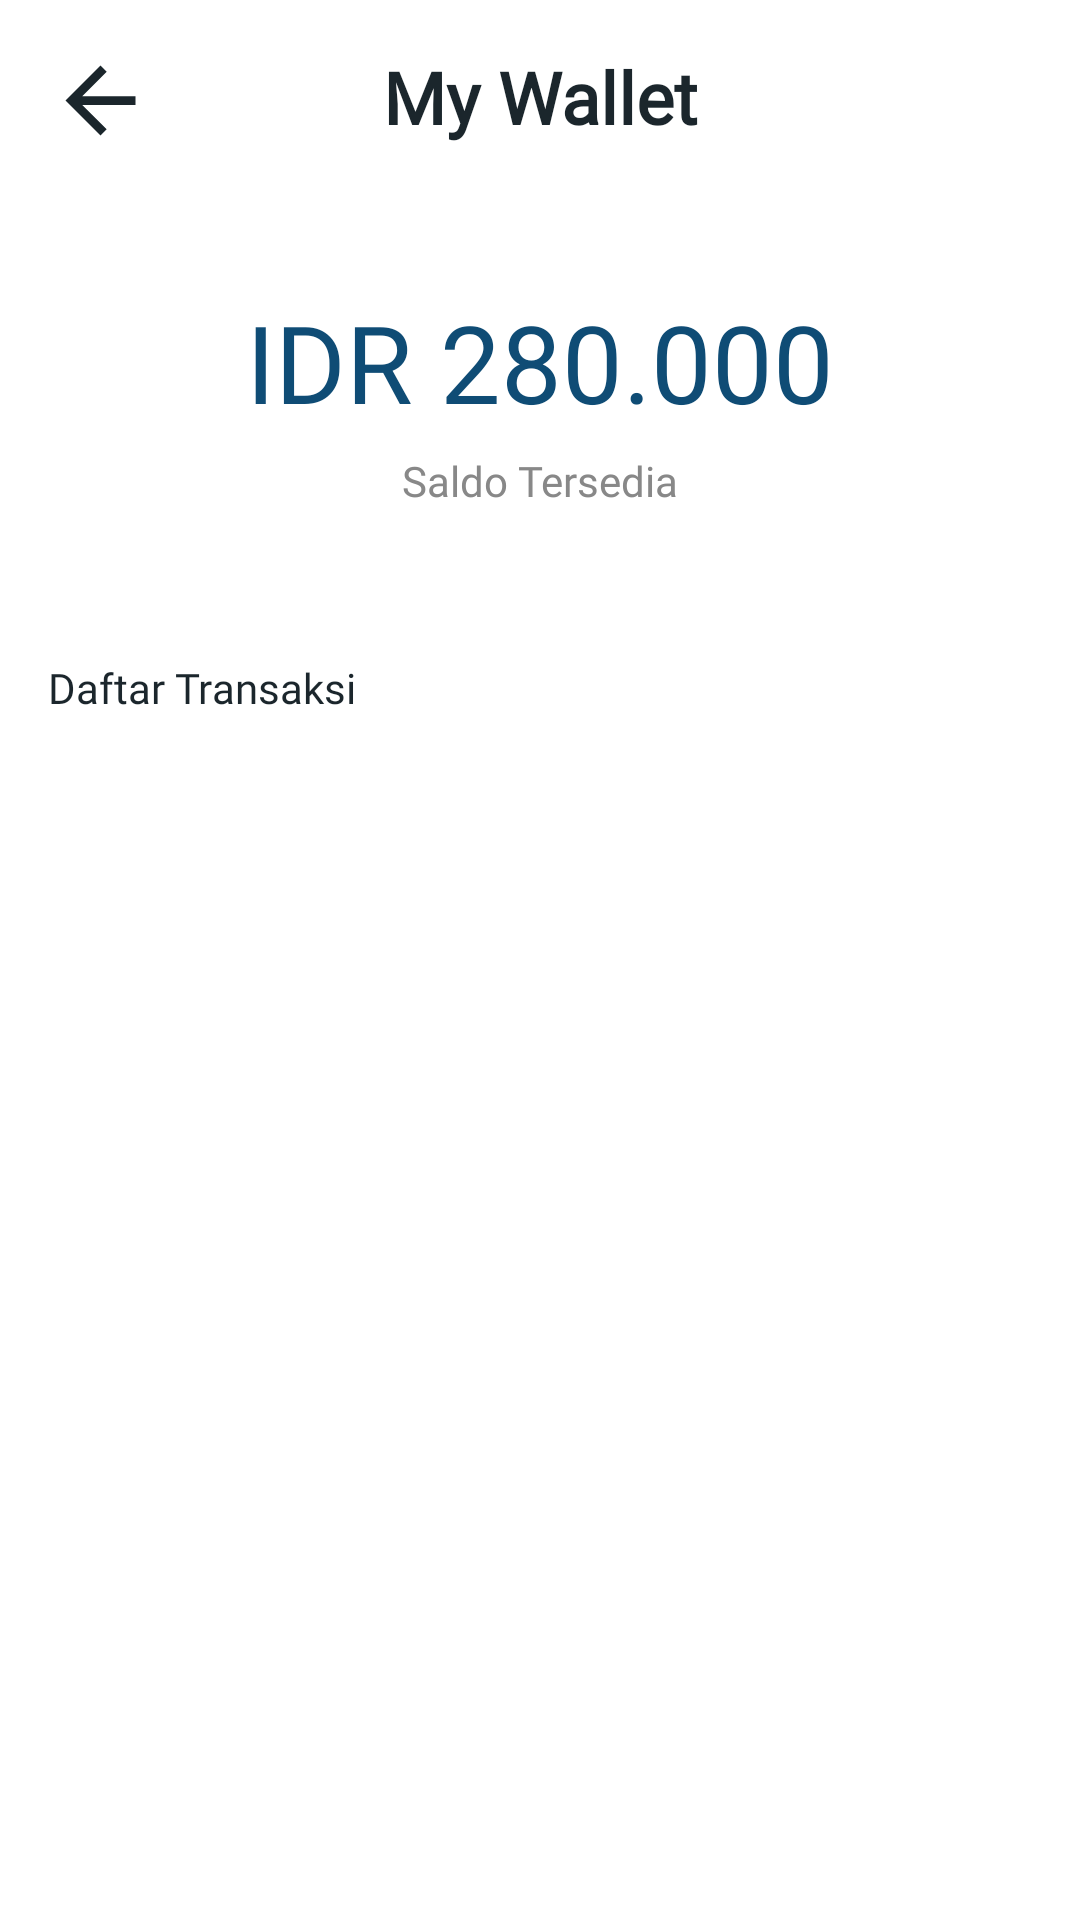

Point at icon controls on the screen. Image size 1080 × 1920, points as [x,y].
arrow back: [100,100]
